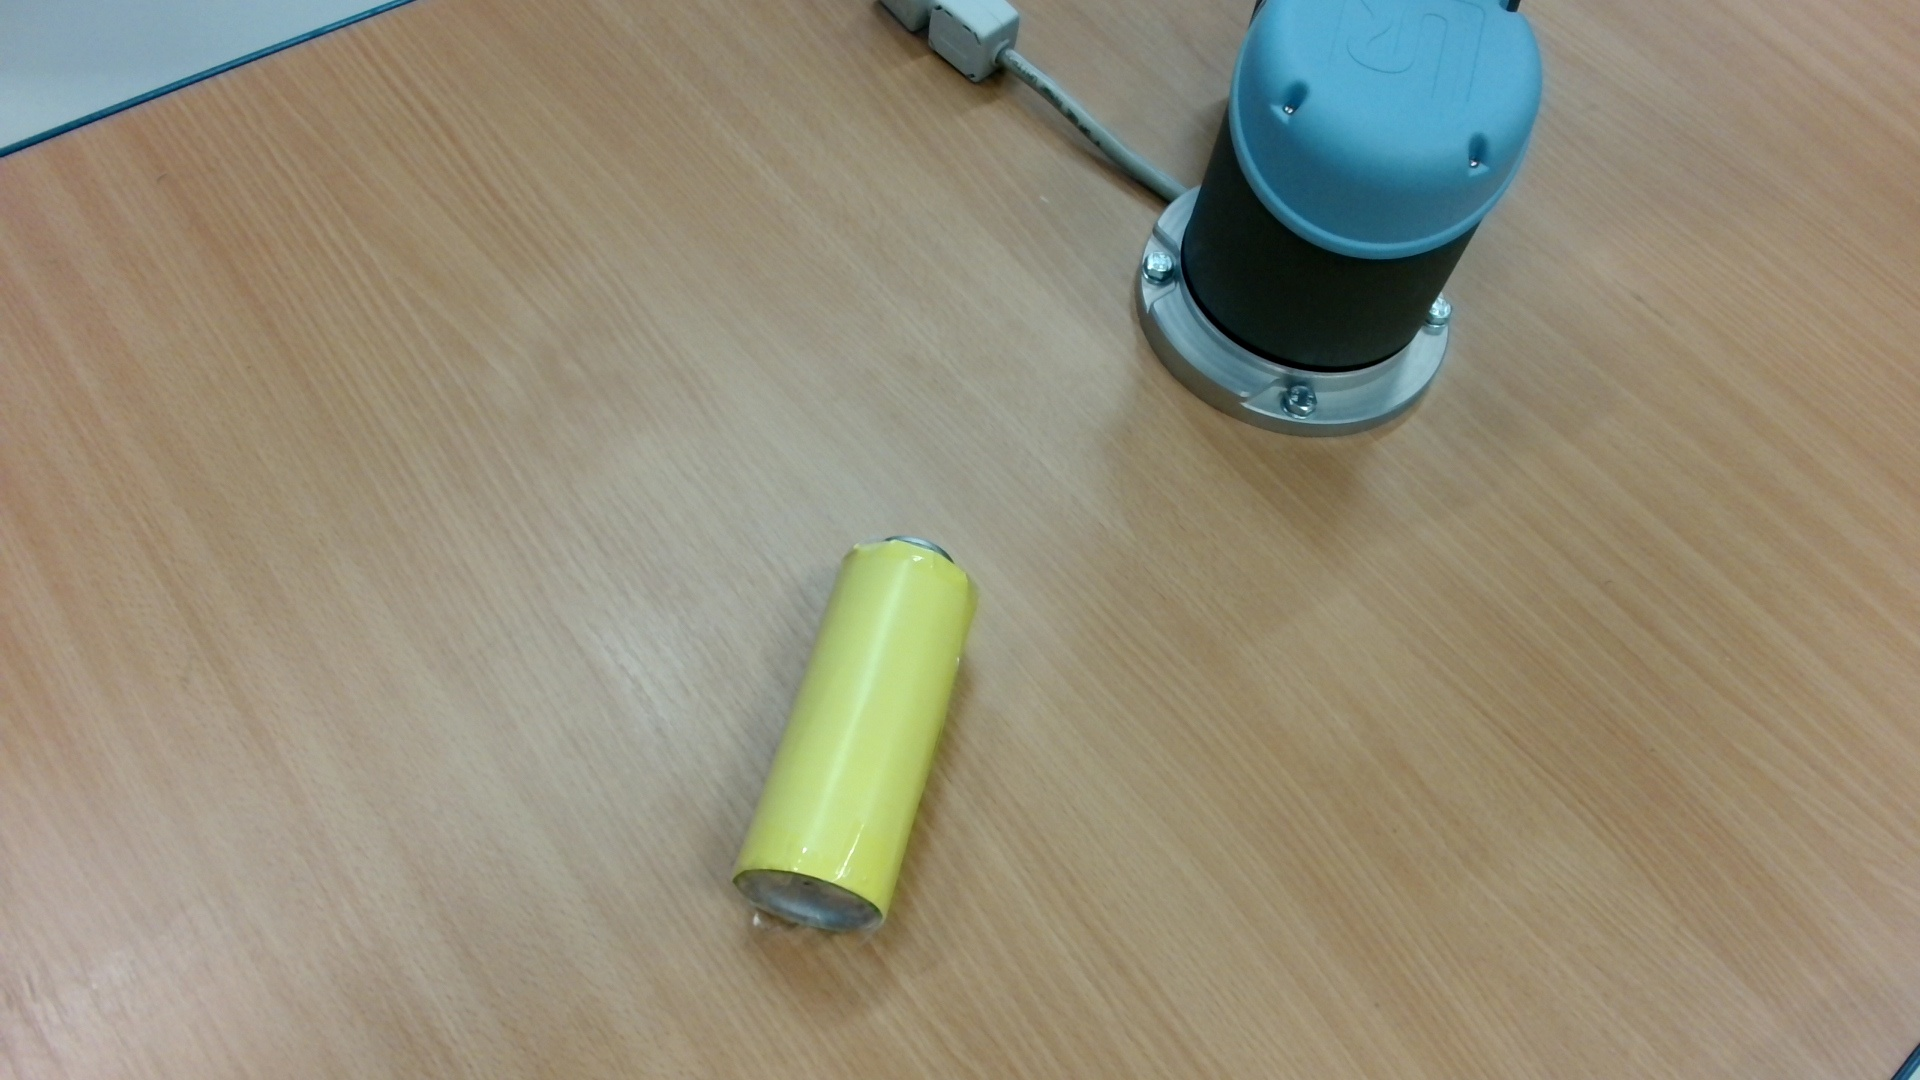Cylinder: (723, 509, 992, 945)
